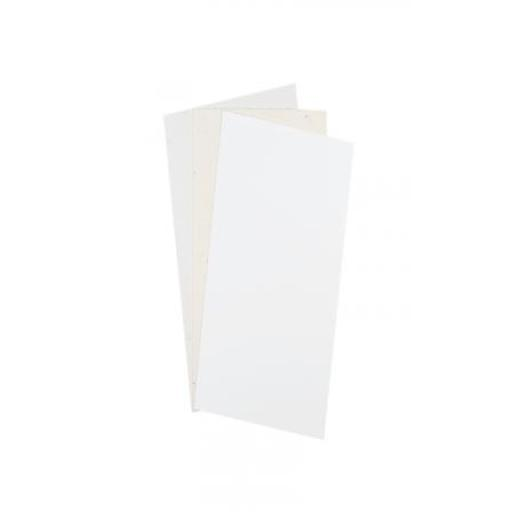paper: (128, 77, 389, 451)
